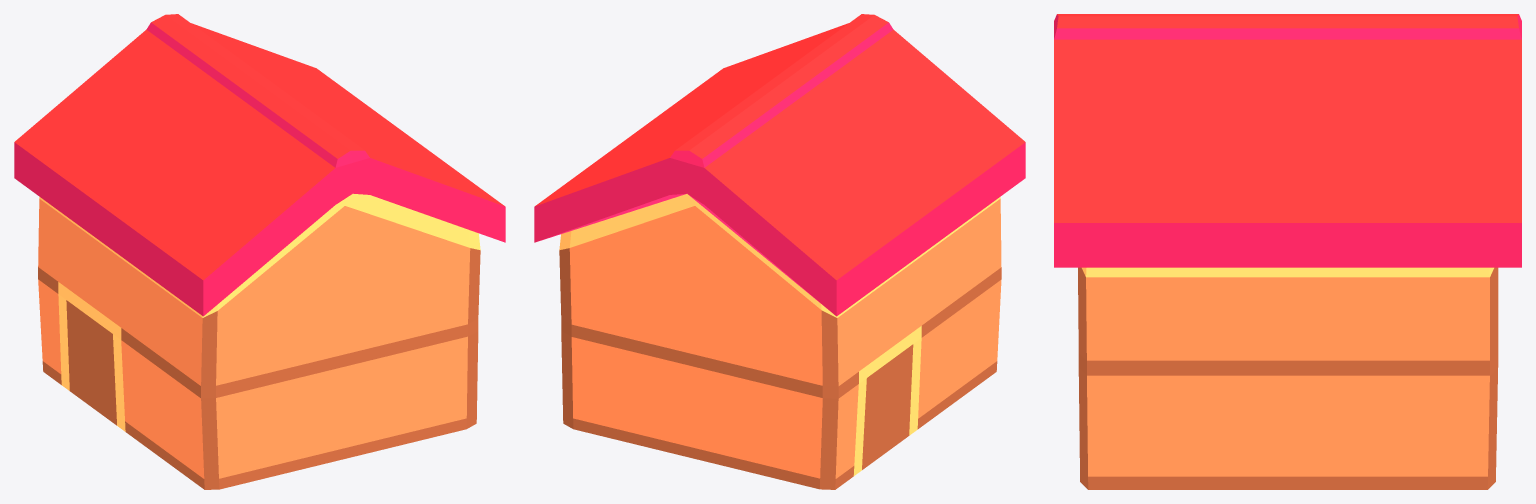
Rendered from house00.fbx.
3 renders of one model, left to right at view 1: azimuth 30°, elevation 25°; view 2: azimuth 150°, elevation 25°; view 3: azimuth 270°, elevation 25°, orthographic. The views are drawn at different scales.
Visible parts, largest first — view 1: base, roof, roofshadows, shadow, light; view 2: base, roof, roofshadows, shadow, light; view 3: roof, base, roofshadows, shadow, light.
Boxes of the visible parts, x1,y1,x2,y2 form: base: [38, 199, 470, 478]; roof: [14, 14, 504, 280]; roofshadows: [14, 22, 505, 316]; shadow: [38, 248, 480, 489]; light: [39, 193, 480, 431]; base: [569, 199, 1001, 478]; roof: [535, 14, 1025, 280]; roofshadows: [534, 22, 1025, 316]; shadow: [559, 248, 1001, 489]; light: [559, 194, 1000, 475]; roof: [1054, 14, 1521, 222]; base: [1086, 277, 1489, 476]; roofshadows: [1054, 14, 1521, 267]; shadow: [1078, 267, 1498, 489]; light: [1082, 267, 1493, 277].
Size of the model in its own units: 3.86 by 3.85 by 4.19.
